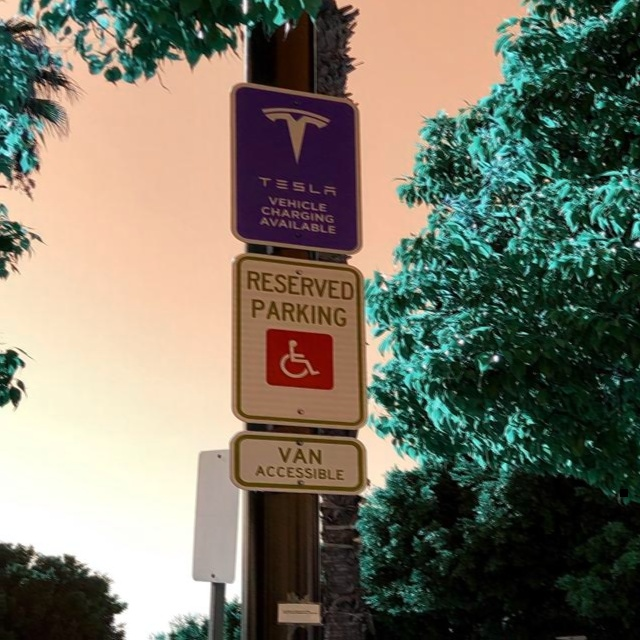ISA: (267, 335, 330, 387)
